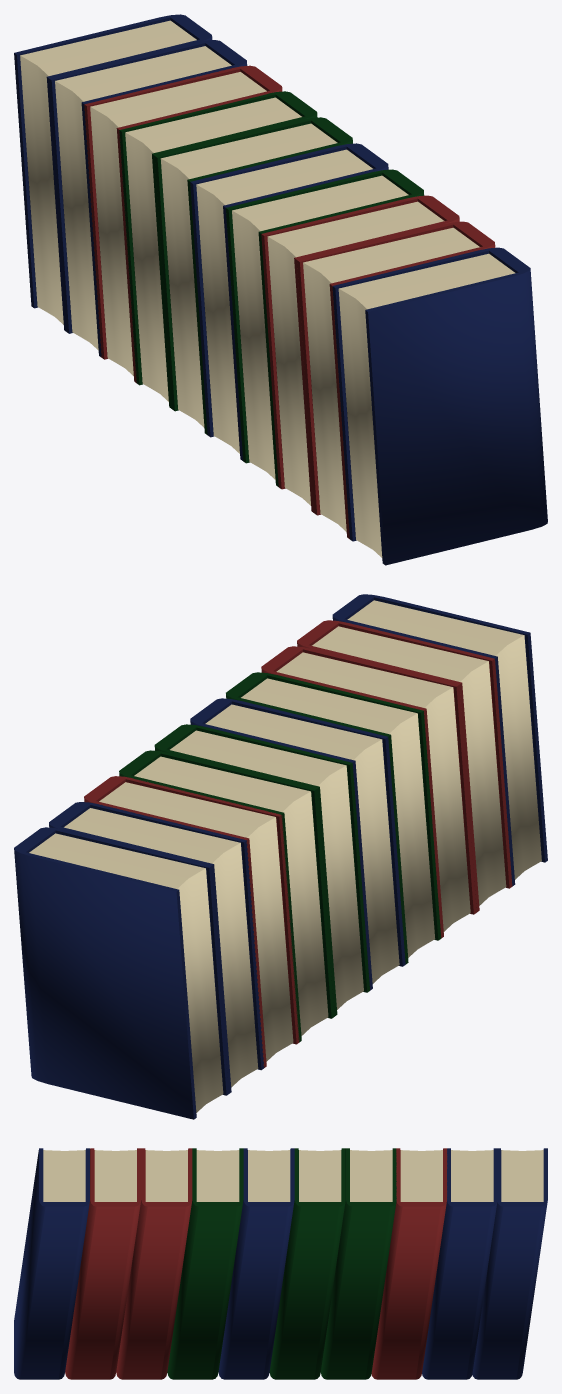
The model's file is SlantedBooks.fbx.
3 views of the same model, one above another, from view 1: azimuth 30°, elevation 25°; view 2: azimuth 150°, elevation 25°; view 3: azimuth 270°, elevation 25° (orthographic). The views are drawn at different scales.
Parts seen in each view (by area): view 1: Books.019; view 2: Books.019; view 3: Books.019.
Boxes of the visible parts, x1,y1,x2,y2 form: Books.019: [14, 14, 547, 565]; Books.019: [14, 594, 547, 1119]; Books.019: [14, 1148, 547, 1379].
Size of the model in its own units: 72.62 by 100 by 280.
